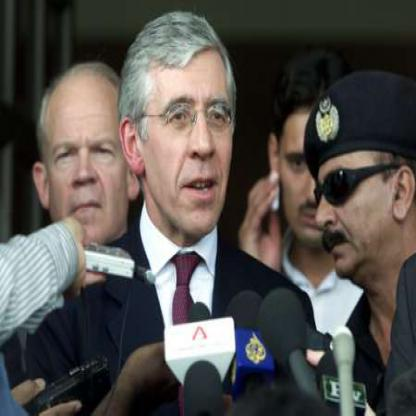face: (135, 33, 236, 236), (304, 110, 399, 283), (44, 69, 132, 248), (278, 83, 358, 247)
